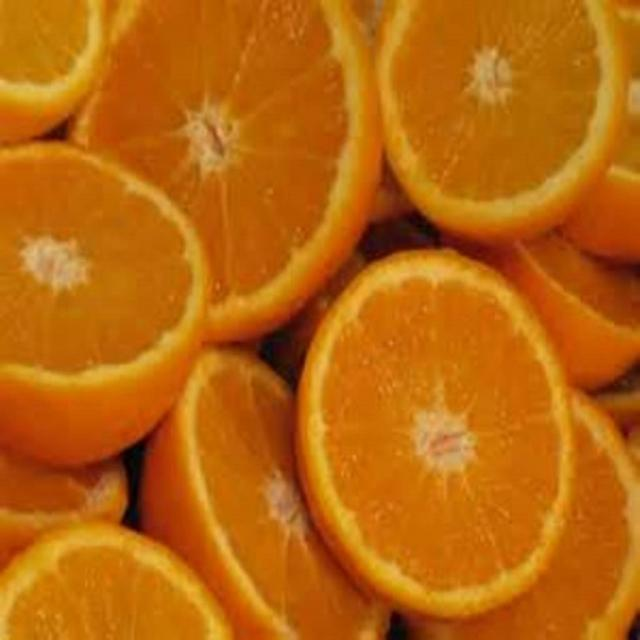Orange: (0, 0, 638, 638), (295, 245, 577, 621)
